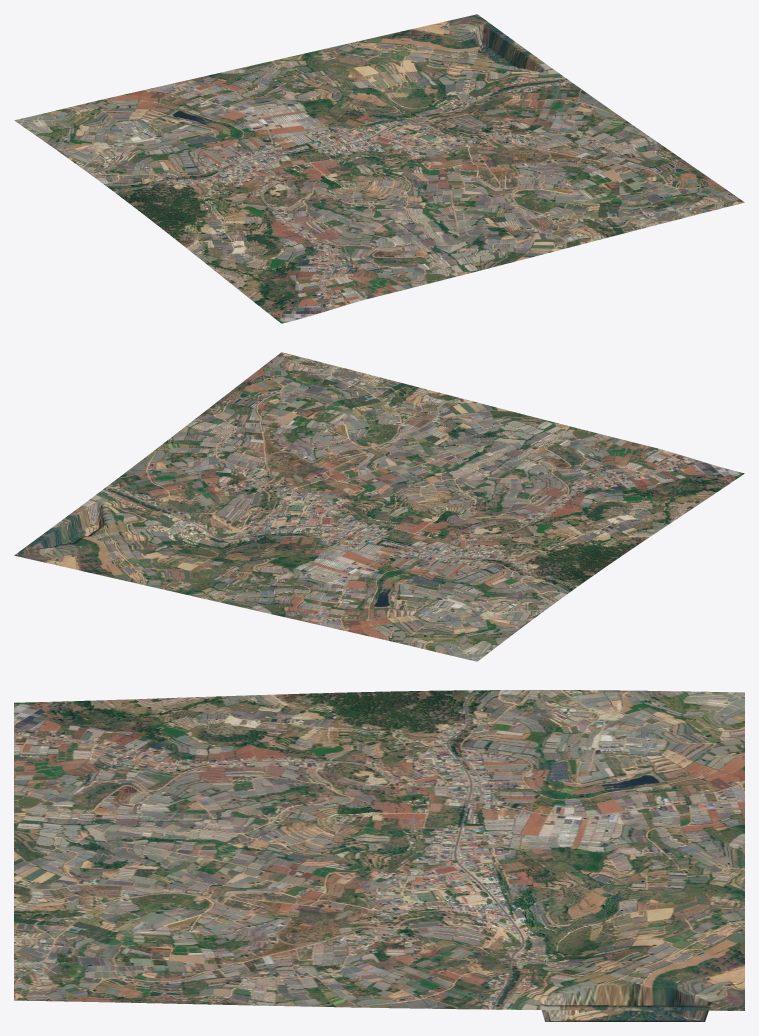
File: terrain_real_T_E04_N00.glb
The picture shows the model from 3 angles, top to bottom: view 1: azimuth 30°, elevation 25°; view 2: azimuth 150°, elevation 25°; view 3: azimuth 270°, elevation 25°; orthographic projection. The views are drawn at different scales.
Parts seen in each view (by area): view 1: Terrain_Real_DEM_T_E04_N00; view 2: Terrain_Real_DEM_T_E04_N00; view 3: Terrain_Real_DEM_T_E04_N00.
Part boxes in pixels (x1=…): Terrain_Real_DEM_T_E04_N00: x1=14, y1=14, x2=744, y2=323; Terrain_Real_DEM_T_E04_N00: x1=14, y1=352, x2=744, y2=661; Terrain_Real_DEM_T_E04_N00: x1=14, y1=690, x2=744, y2=1021.
Bounding box in the file's own units: 2000 × 92.24 × 2000.
Materials: 1 (1 with a texture image).
